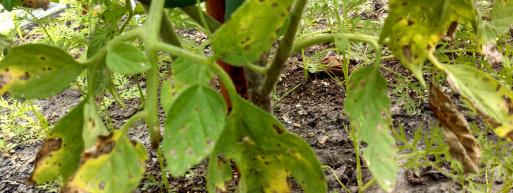Tomato Septoria leaf spot: (371, 0, 464, 82), (345, 65, 401, 191), (158, 84, 231, 177), (21, 102, 101, 184), (436, 62, 513, 147), (213, 0, 294, 72), (59, 128, 146, 193), (0, 42, 81, 110)
